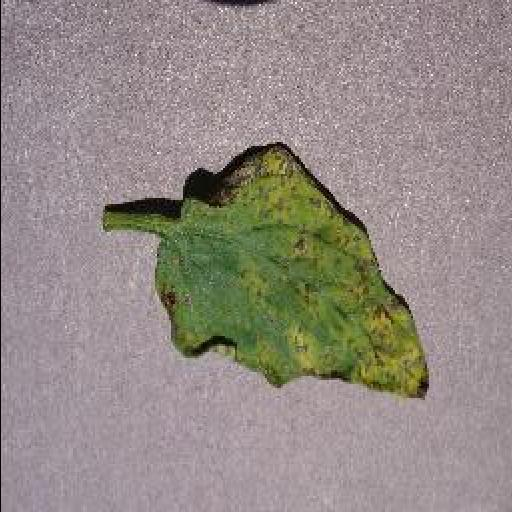disease_tomato: (154, 144, 430, 402)
